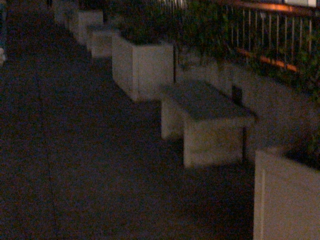Obstacle: (35, 9, 175, 100), (158, 78, 252, 168), (254, 149, 318, 239)
